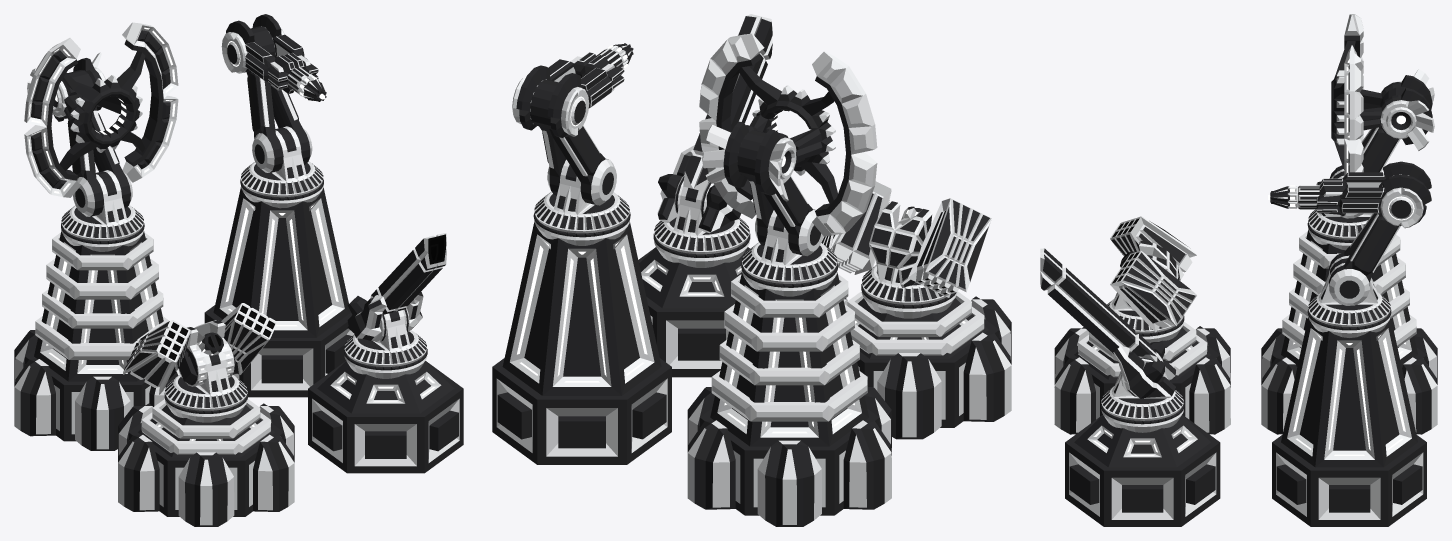
File: towerpack.glb
3 views of the same model, side by side, from view 1: azimuth 30°, elevation 25°; view 2: azimuth 150°, elevation 25°; view 3: azimuth 270°, elevation 25° (orthographic). The views are drawn at different scales.
Parts seen in each view (by area): view 1: MultifunctionalTower_Armored, MultifunctionalTower, MultifunctionalSmallTower, MultifunctionalSmallTower_Armored, Tower_RadarHead, Tower_LaserUpperHead, Tower_LaserUpperNeck, Tower_RadarUpperNeck, Tower_AntiAirGun.R, Tower_LaserNeck, Tower_RadarNeck, Tower_ArtilleryGun (+6 smaller); view 2: MultifunctionalTower_Armored, MultifunctionalTower, Tower_RadarHead, MultifunctionalSmallTower, MultifunctionalSmallTower_Armored, Tower_LaserUpperHead, Tower_AntiAirGun.R, Tower_LaserUpperNeck, Tower_RadarUpperNeck, Tower_AntiAirHead, Tower_RadarNeck, Tower_LaserNeck (+5 smaller); view 3: MultifunctionalTower, MultifunctionalSmallTower_Armored, MultifunctionalTower_Armored, MultifunctionalSmallTower, Tower_RadarHead, Tower_LaserUpperHead, Tower_AntiAirGun.L, Tower_ArtilleryGun, Tower_LaserUpperNeck, Tower_ArtilleryHead, Tower_LaserNeck, Tower_AntiAirGun.R (+6 smaller).
Boxes of the visible parts, x1,y1,x2,y2 form: MultifunctionalTower_Armored: (14, 222, 179, 450); MultifunctionalTower: (204, 179, 354, 397); MultifunctionalSmallTower: (118, 392, 294, 526); MultifunctionalSmallTower_Armored: (308, 348, 463, 473); Tower_RadarHead: (24, 22, 178, 197); Tower_LaserUpperHead: (221, 14, 318, 96); Tower_LaserUpperNeck: (246, 26, 312, 172); Tower_RadarUpperNeck: (67, 70, 132, 216); Tower_AntiAirGun.R: (123, 320, 190, 394); Tower_LaserNeck: (241, 126, 323, 195); Tower_RadarNeck: (61, 170, 143, 238); Tower_ArtilleryGun: (378, 233, 446, 309); MultifunctionalTower_Armored: (687, 262, 891, 526); MultifunctionalTower: (492, 212, 671, 464); Tower_RadarHead: (699, 33, 877, 236); MultifunctionalSmallTower: (843, 284, 1011, 439); MultifunctionalSmallTower_Armored: (638, 233, 750, 377); Tower_LaserUpperHead: (512, 49, 624, 137); Tower_AntiAirGun.R: (908, 198, 991, 297); Tower_LaserUpperNeck: (530, 79, 616, 205); Tower_RadarUpperNeck: (737, 130, 823, 256); Tower_AntiAirHead: (869, 201, 931, 287); Tower_RadarNeck: (742, 210, 837, 281); Tower_LaserNeck: (534, 159, 629, 231); MultifunctionalTower: (1272, 308, 1426, 526); MultifunctionalSmallTower_Armored: (1065, 402, 1220, 526); MultifunctionalTower_Armored: (1261, 221, 1437, 434); MultifunctionalSmallTower: (1054, 315, 1230, 434); Tower_RadarHead: (1331, 14, 1434, 175); Tower_LaserUpperHead: (1298, 161, 1431, 228); Tower_AntiAirGun.L: (1110, 250, 1196, 332); Tower_ArtilleryGun: (1040, 248, 1135, 353); Tower_LaserUpperNeck: (1329, 174, 1406, 305); Tower_ArtilleryHead: (1113, 334, 1175, 398); Tower_LaserNeck: (1308, 255, 1390, 325); Tower_AntiAirGun.R: (1110, 216, 1196, 279).
Size of the model in its own units: 3649 by 4063 by 3842.
1 material, 1 textured.
